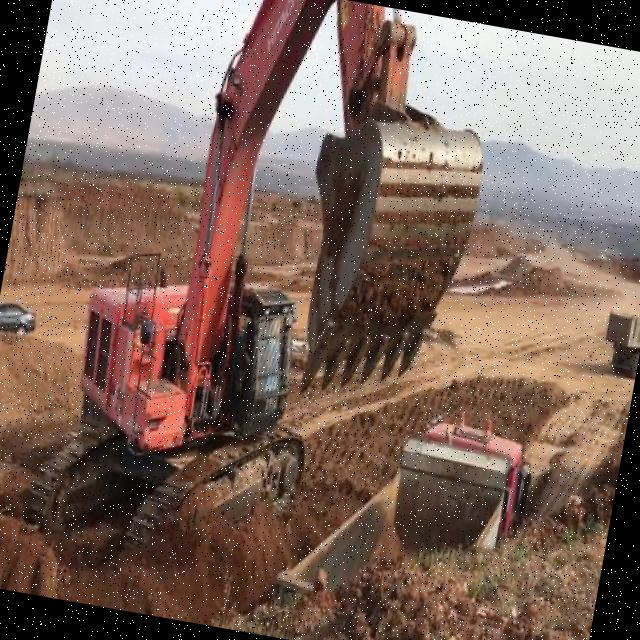Dump Truck: (270, 384, 540, 640), (597, 292, 640, 376)
Excavator: (21, 0, 508, 604)
